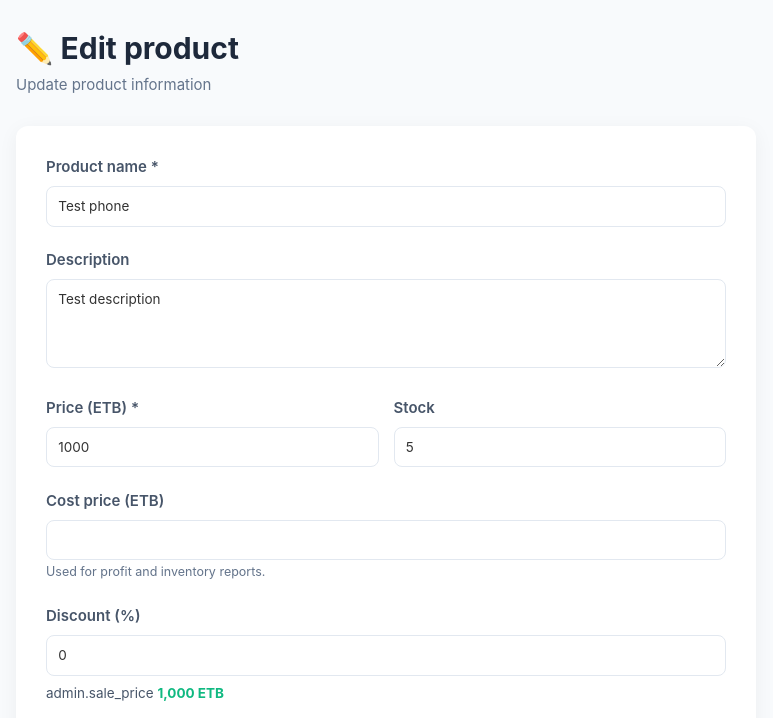
Test case: EditProduct discount persistence › shows an error instead of success when the server returns a different discount
This screenshot has width=773, height=718.
Replace the text in the number field showing "0" with "20": (386, 655) [46, 635, 726, 676]
(page scrolled)
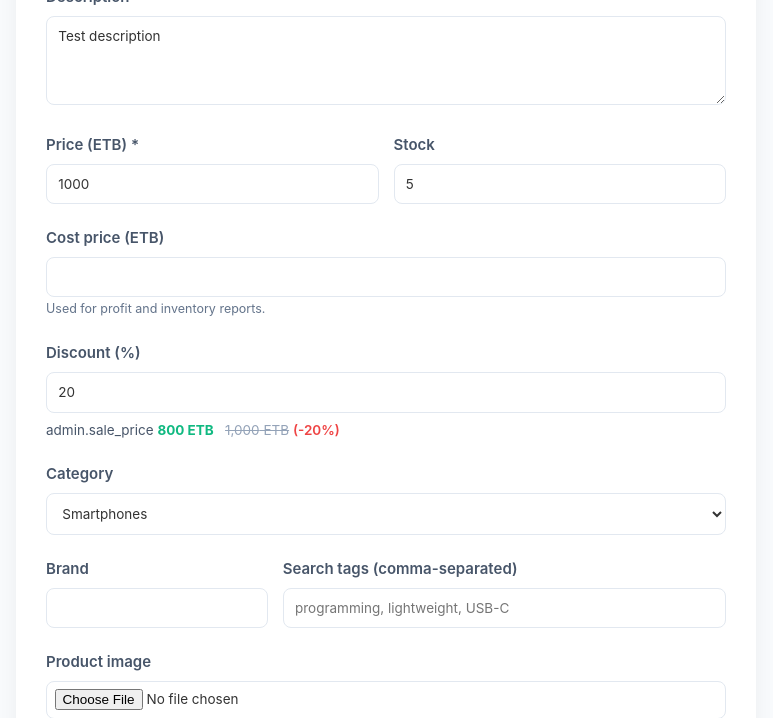
Submit the form
(page scrolled)
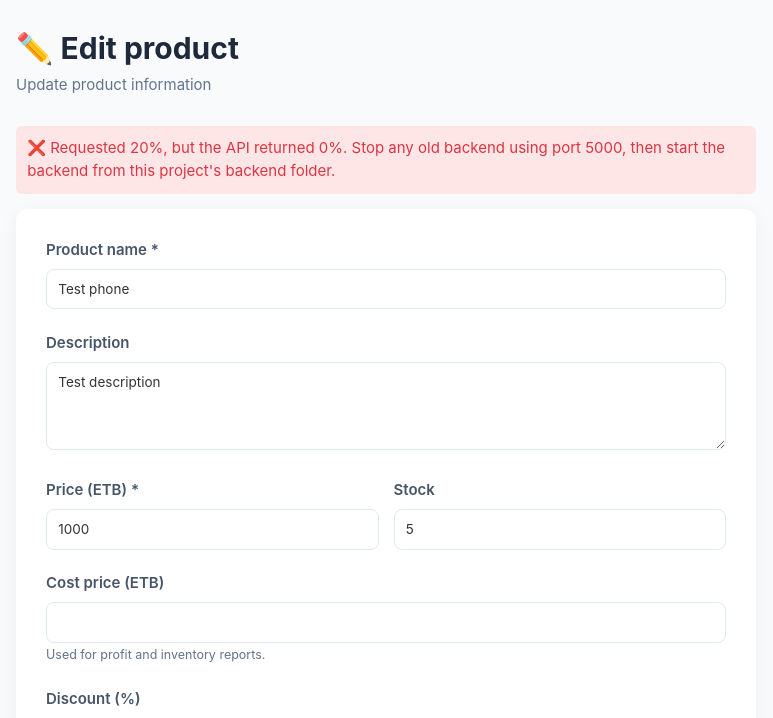
Check: the text "Requested 20%, but the API returned 0%" is shown, box [27, 138, 725, 180]
